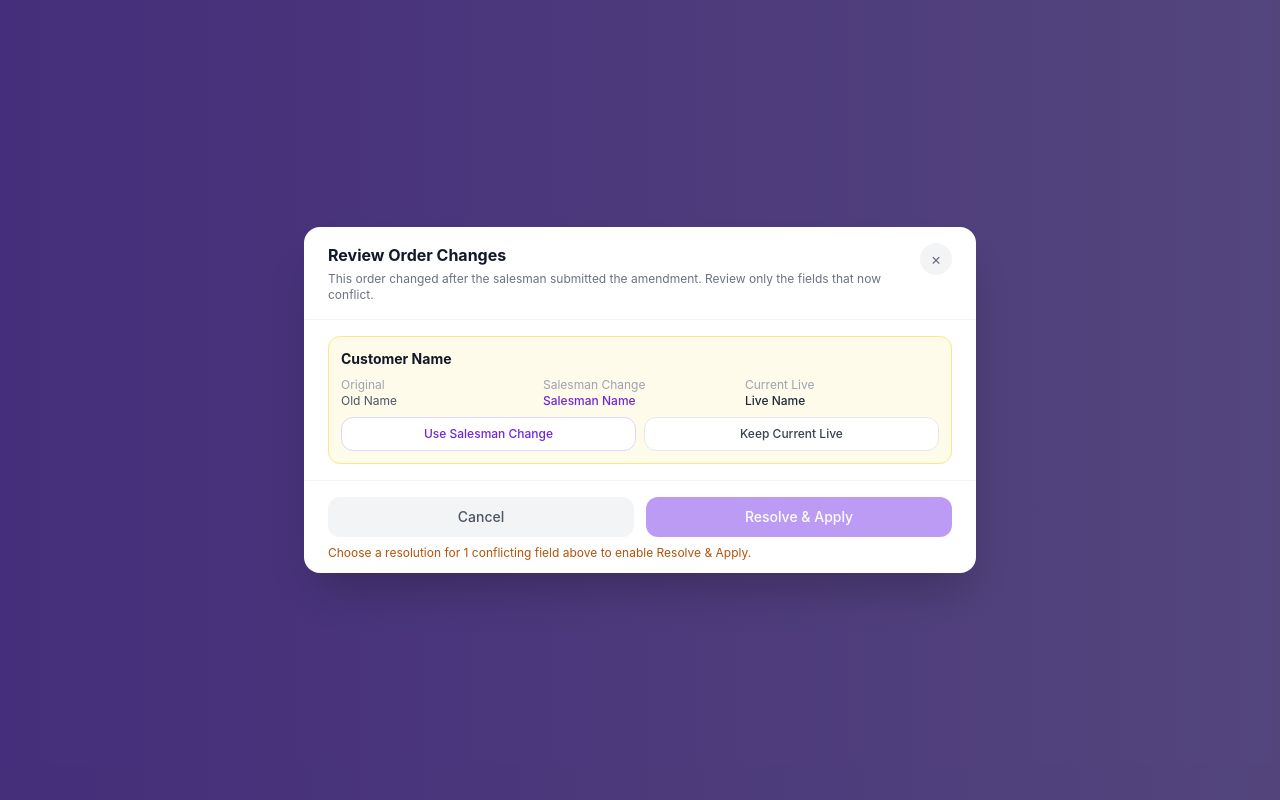
Scenario: AmendmentRebaseReview — full component with a stubbed fetch › 10. rebase_stale response shows 'Review Latest Changes', never a generic error
Expected: the text "Customer Name" is shown, [341, 350, 452, 367]
Click the button "Use Salesman Change".
click(488, 434)  # box [341, 417, 636, 451]
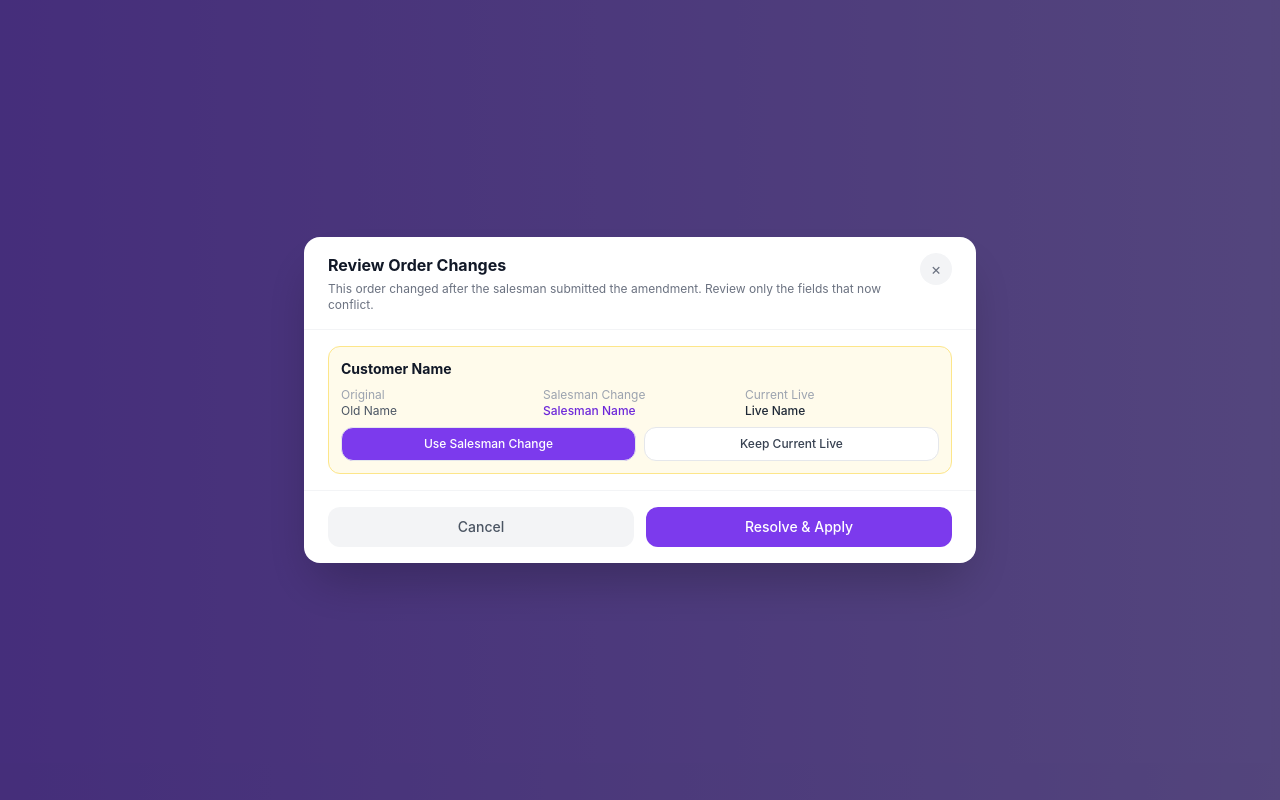
Click the button "Resolve & Apply".
click(799, 527)  # box [646, 507, 952, 547]
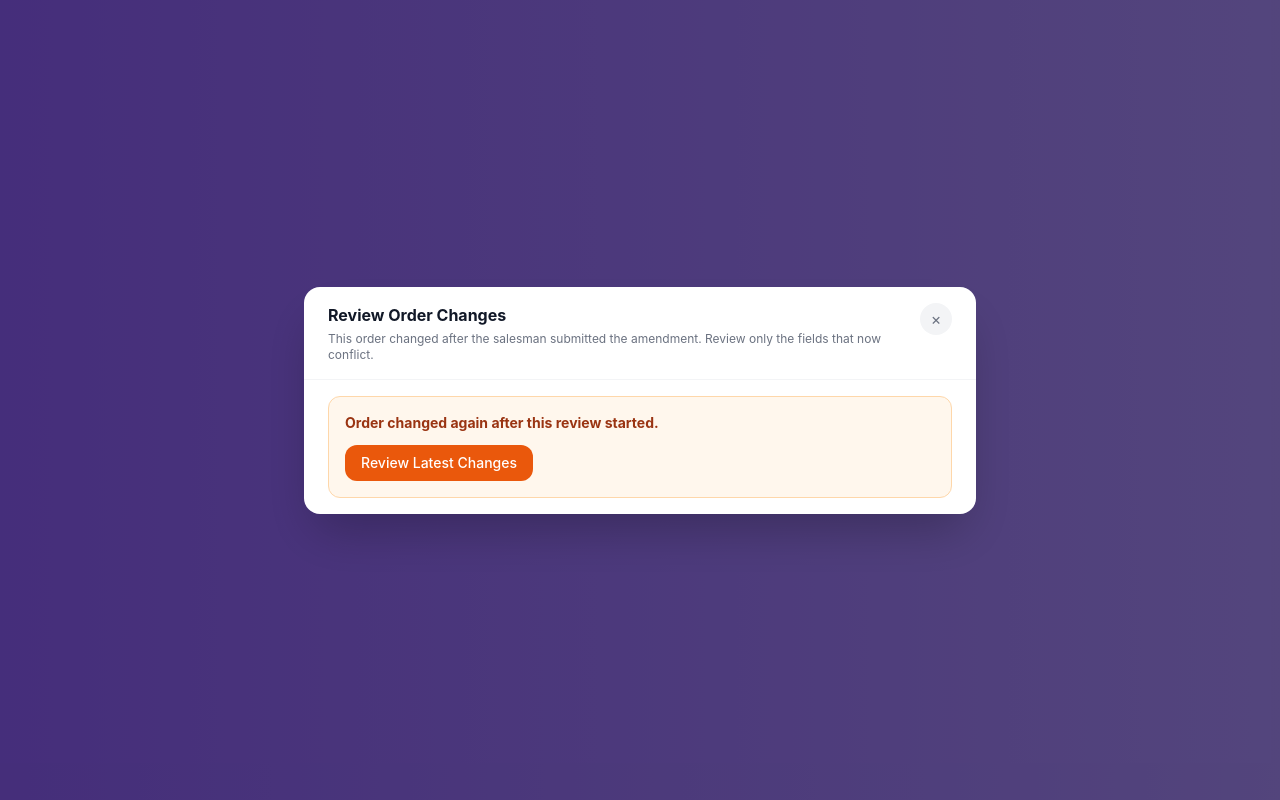
Expected: the text "Order changed again after this review started." is shown, [345, 414, 659, 430]
Expected: the button "Review Latest Changes" is shown, [345, 444, 533, 480]
